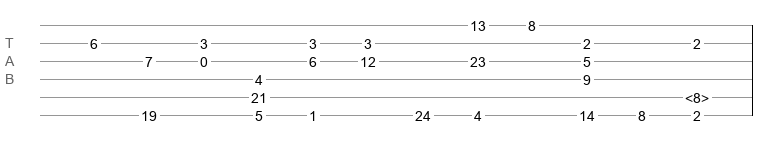0: (200, 54, 208, 64)
1: (309, 108, 317, 118)
12: (360, 54, 376, 64)
13: (470, 18, 486, 28)
14: (579, 108, 595, 118)
19: (141, 108, 157, 118)
2: (583, 36, 591, 46), (693, 36, 701, 46), (693, 108, 701, 118)
21: (251, 90, 267, 100)
23: (470, 54, 486, 64)
24: (415, 108, 431, 118)
3: (200, 36, 208, 46), (309, 36, 317, 46), (364, 36, 372, 46)
4: (255, 72, 263, 82), (474, 108, 482, 118)
5: (255, 108, 263, 118), (583, 54, 591, 64)
6: (90, 36, 98, 46), (309, 54, 317, 64)
7: (145, 54, 153, 64)
8: (528, 18, 536, 28), (638, 108, 646, 118)
9: (583, 72, 591, 82)
harmonic: (685, 90, 709, 100)
